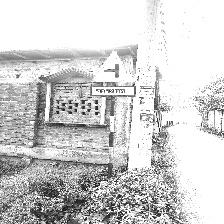Side-road-left: (91, 52, 137, 98)
